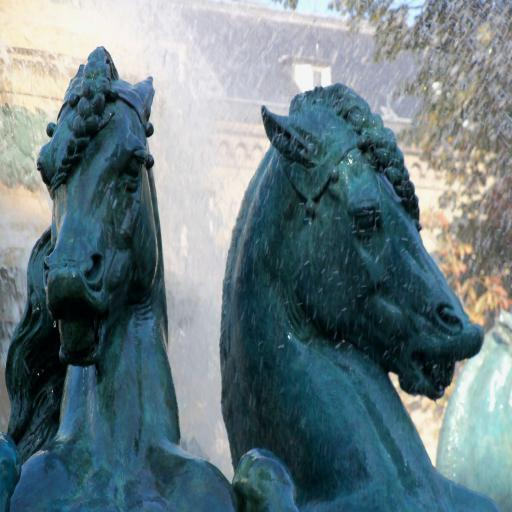horse: (219, 80, 501, 512), (0, 44, 239, 510)
